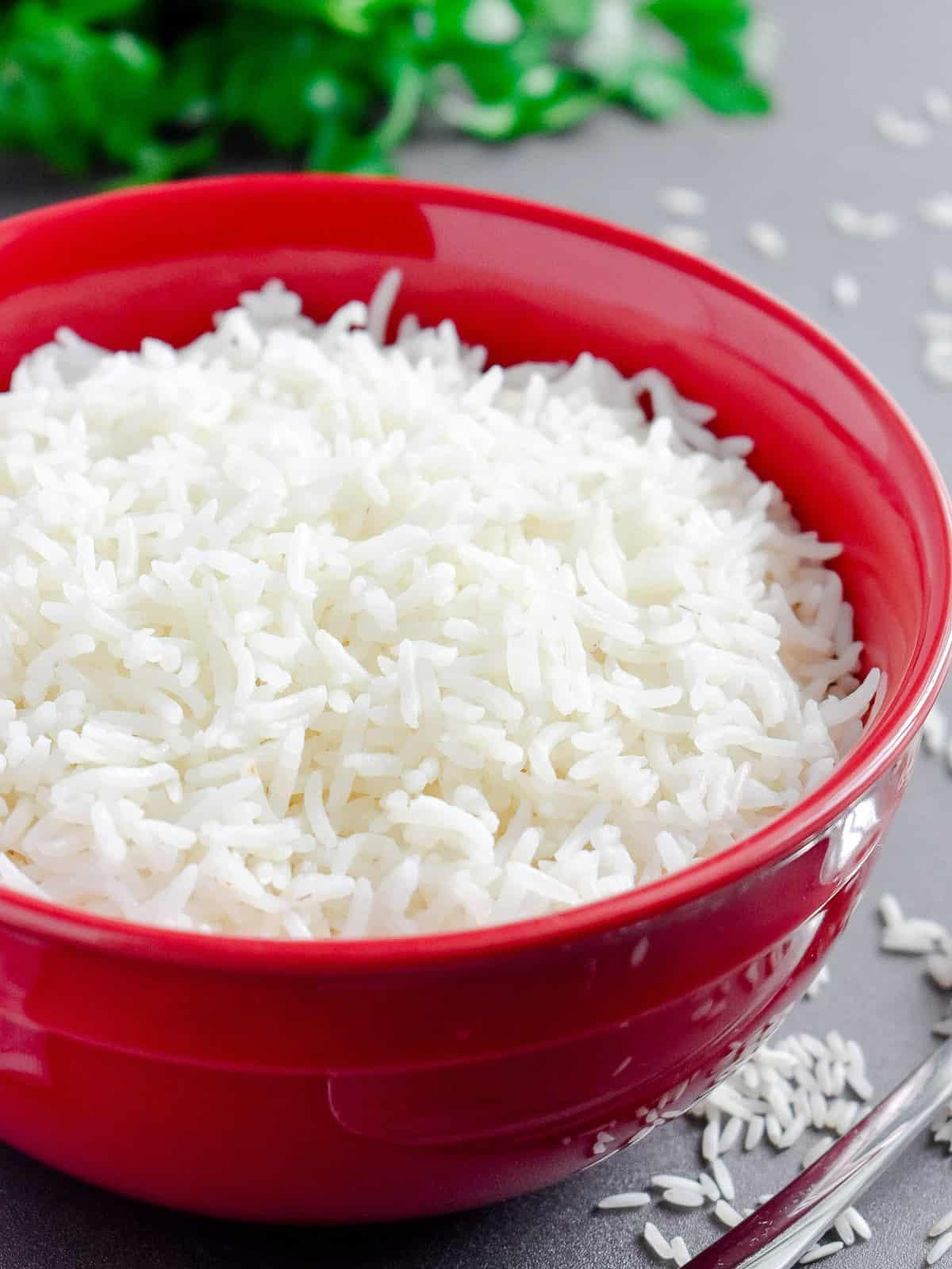rice: (2, 309, 883, 930)
